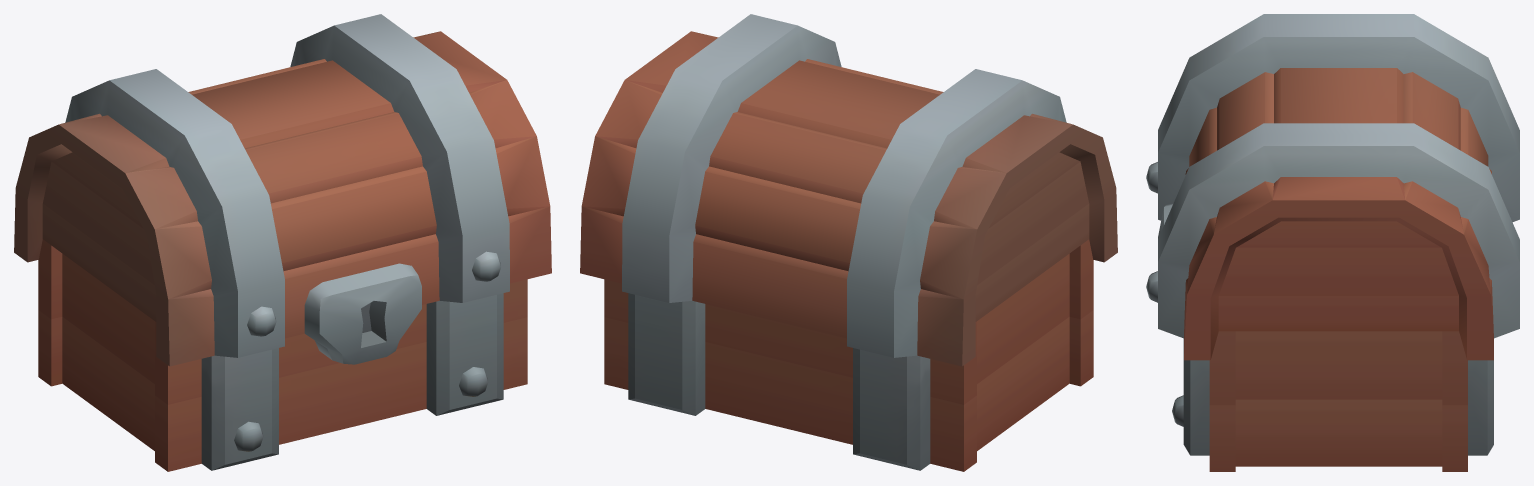
File: chest_gold.glb
3 views of the same model, side by side, from view 1: azimuth 30°, elevation 25°; view 2: azimuth 150°, elevation 25°; view 3: azimuth 270°, elevation 25° (orthographic).
Parts seen in each view (by area): view 1: chest_gold_lid, Cube.14744; view 2: chest_gold_lid, Cube.14744; view 3: chest_gold_lid, Cube.14744.
Boxes of the visible parts, <box> form: chest_gold_lid: <box>14,14,551,366</box>; Cube.14744: <box>38,239,527,471</box>; chest_gold_lid: <box>580,14,1117,366</box>; Cube.14744: <box>604,239,1093,471</box>; chest_gold_lid: <box>1146,14,1519,360</box>; Cube.14744: <box>1172,331,1493,471</box>.
Size of the model in its own units: 1.7 by 1.3 by 1.45.
1 material, 1 textured.
